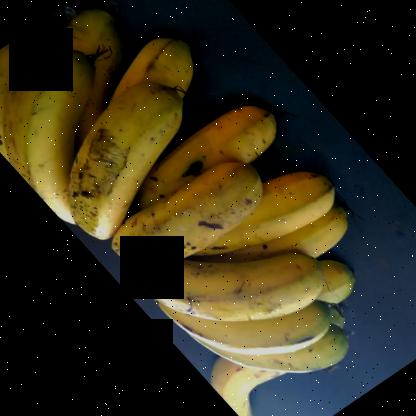ripe: (70, 74, 194, 247), (97, 157, 265, 266), (119, 249, 332, 323), (0, 47, 83, 216), (194, 168, 342, 260), (169, 304, 353, 368), (169, 104, 291, 180)
